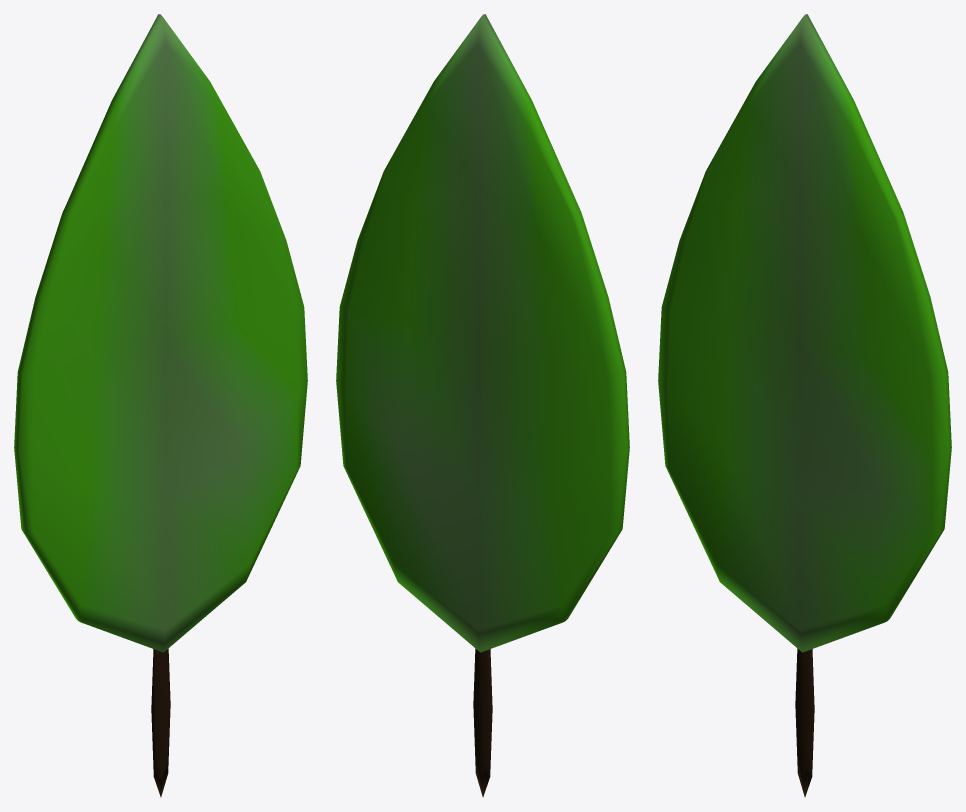
File: BayLeaf.glb
3 renders of one model, left to right at view 1: azimuth 30°, elevation 25°; view 2: azimuth 150°, elevation 25°; view 3: azimuth 330°, elevation 25°, orthographic.
Visible parts, largest first — view 1: Bag_leaf; view 2: Bag_leaf; view 3: Bag_leaf.
Boxes of the visible parts, <box> form: Bag_leaf: <box>14,14,307,797</box>; Bag_leaf: <box>336,14,629,797</box>; Bag_leaf: <box>658,14,951,797</box>.
Size of the model in its own units: 1 by 2.59 by 0.0605.
